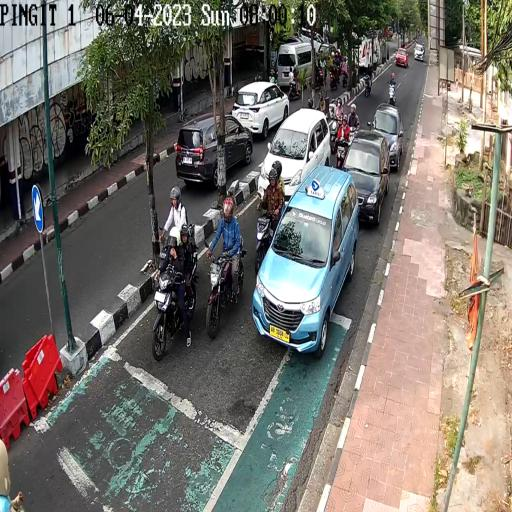mobil: (252, 165, 358, 352), (258, 107, 330, 214), (342, 131, 391, 226), (366, 100, 406, 170), (394, 46, 410, 69), (413, 42, 424, 64)
motor: (150, 263, 196, 364), (205, 240, 249, 332), (252, 195, 282, 270), (335, 133, 349, 170), (329, 111, 341, 152), (386, 80, 398, 107)
